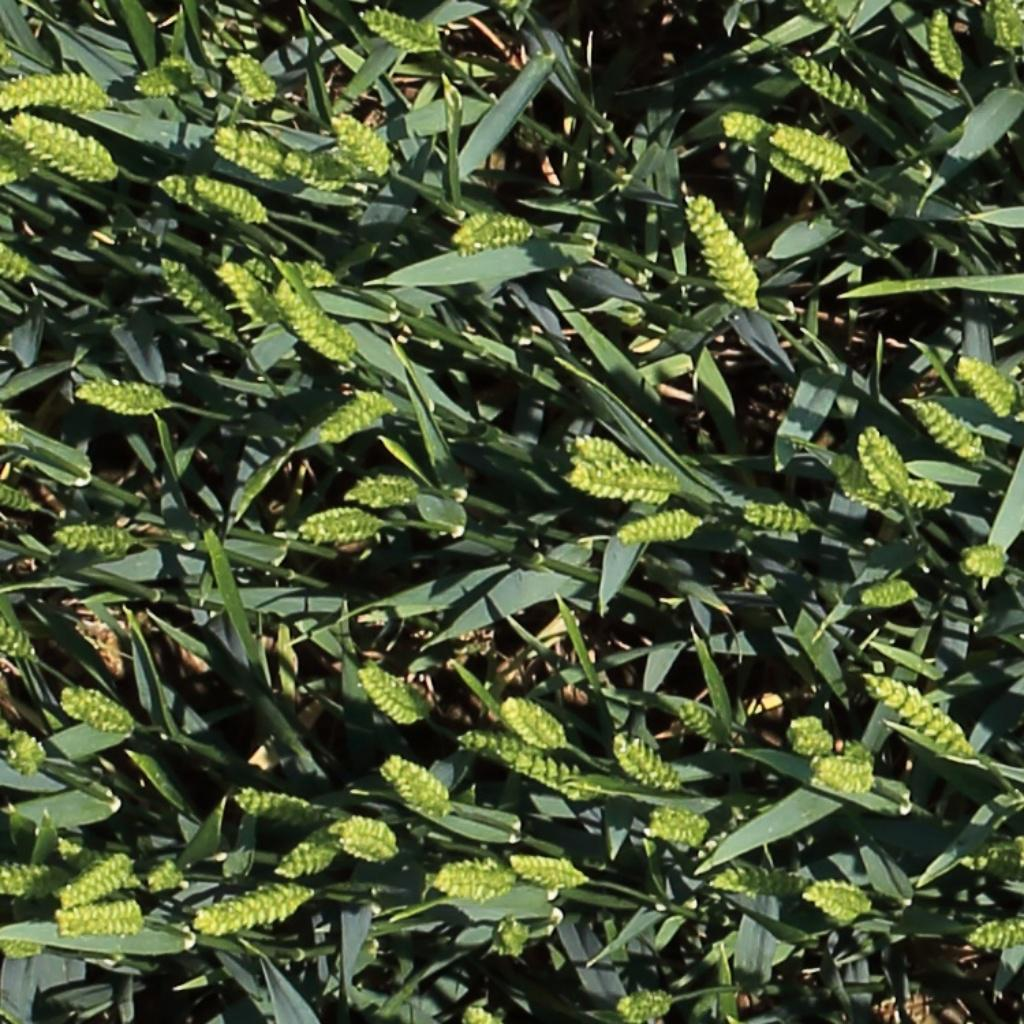0-0: (158, 253, 349, 344), (682, 188, 768, 319), (2, 112, 139, 189), (866, 673, 978, 763), (464, 733, 600, 798), (263, 277, 361, 363), (713, 106, 817, 182), (192, 884, 318, 937), (371, 752, 460, 826), (424, 852, 519, 915), (0, 67, 127, 114), (73, 379, 180, 432), (274, 818, 361, 881), (573, 436, 678, 487), (909, 395, 985, 461), (770, 118, 855, 177), (215, 256, 285, 327), (853, 424, 914, 503), (443, 208, 542, 256), (804, 737, 880, 799), (151, 167, 245, 217), (790, 53, 871, 111), (188, 173, 270, 230), (298, 502, 393, 551), (560, 467, 678, 506), (504, 846, 595, 896), (328, 812, 407, 869), (60, 850, 134, 910), (706, 859, 817, 899), (50, 899, 147, 944), (329, 107, 394, 172), (613, 505, 706, 550), (357, 667, 425, 726), (803, 876, 880, 927), (955, 356, 1018, 417), (76, 613, 129, 685), (617, 738, 684, 793), (946, 834, 1024, 881), (644, 802, 716, 852), (503, 696, 566, 752), (774, 713, 849, 760), (341, 474, 426, 515), (58, 690, 135, 735), (214, 128, 285, 176), (361, 8, 441, 50), (234, 788, 323, 824), (319, 395, 393, 438), (673, 697, 734, 749), (929, 5, 968, 86), (822, 449, 871, 510), (223, 50, 278, 101), (281, 148, 349, 189), (897, 475, 961, 516), (0, 857, 54, 903), (957, 542, 1017, 583), (970, 914, 1024, 957), (0, 602, 36, 663), (857, 575, 919, 610), (0, 199, 25, 277), (797, 0, 854, 34), (742, 503, 813, 529), (3, 728, 42, 775), (991, 0, 1022, 58), (618, 990, 674, 1022), (53, 529, 132, 551), (495, 913, 531, 961), (0, 121, 24, 191), (0, 934, 47, 965), (0, 477, 40, 513), (905, 981, 936, 1024), (0, 389, 17, 442), (464, 1003, 495, 1024)
